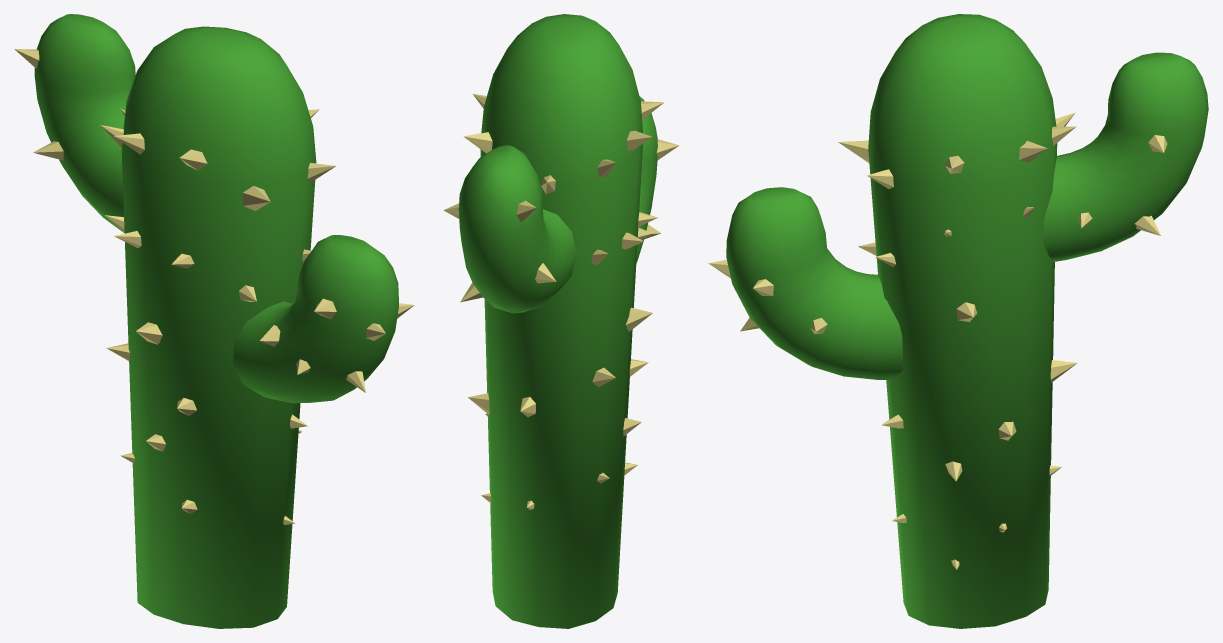
The model's file is cactus.fbx.
3 renders of one model, left to right at view 1: azimuth 30°, elevation 25°; view 2: azimuth 150°, elevation 25°; view 3: azimuth 270°, elevation 25°, orthographic.
Visible parts, largest first — view 1: Cone.012; view 2: Cone.012; view 3: Cone.012.
Part boxes in pixels (x1,y1,x2,y2): Cone.012: (14,14,414,628); Cone.012: (443,14,679,628); Cone.012: (708,14,1208,628).
Bounding box in the file's own units: 1674 × 4714 × 3729.
